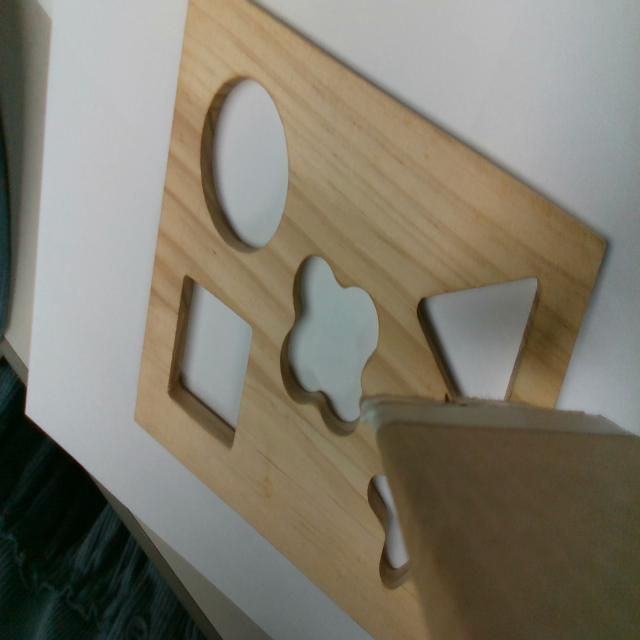circle: (202, 80, 289, 249)
flower: (279, 252, 380, 434)
square: (169, 274, 254, 450)
star: (367, 476, 413, 582)
triangle: (416, 271, 544, 402)
